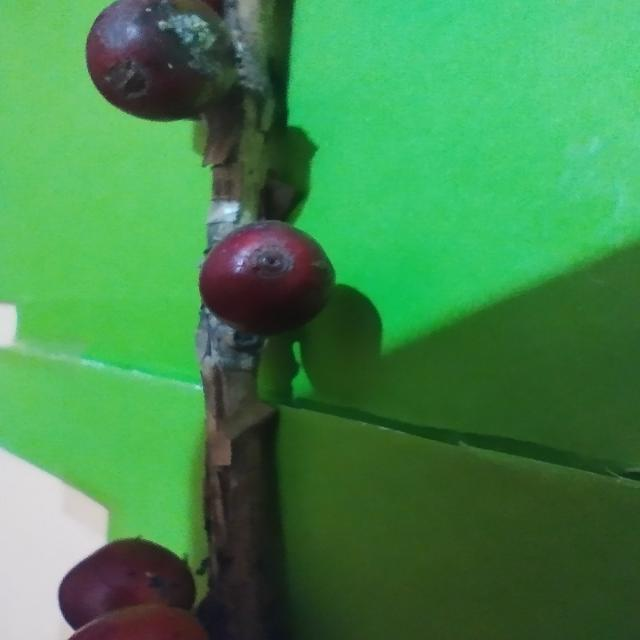Danado: (86, 0, 242, 122)
Infectado: (198, 221, 337, 340)
